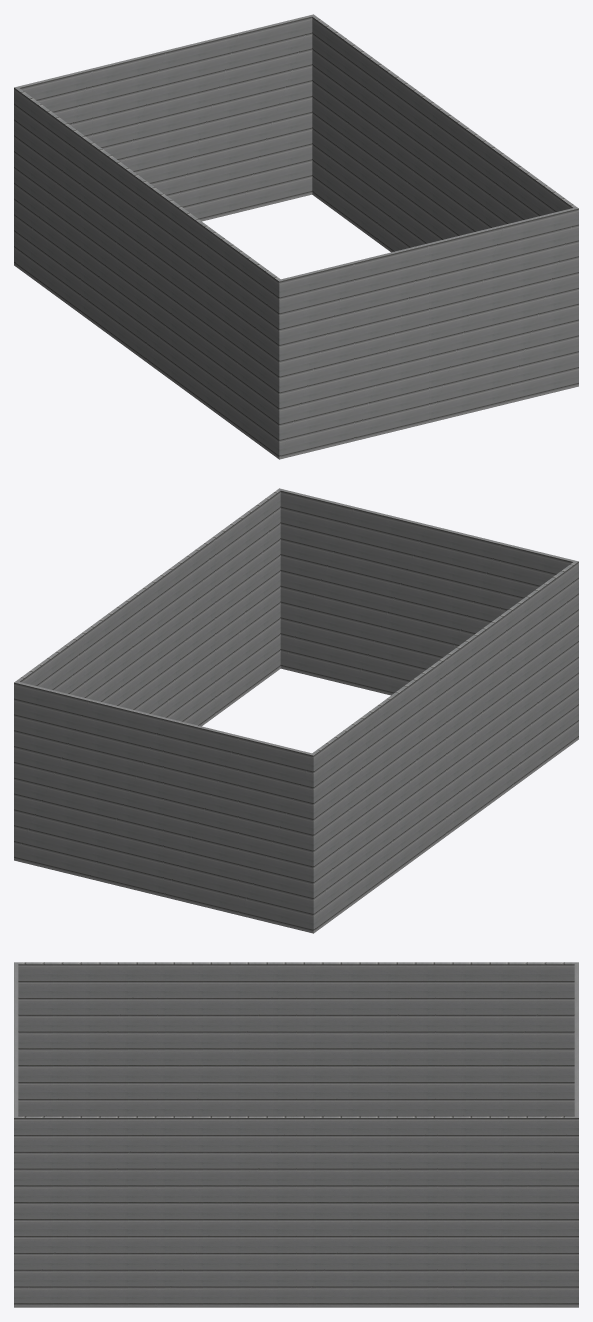
Rendered from exteriorFf.glb.
3 views of the same model, one above another, from view 1: azimuth 30°, elevation 25°; view 2: azimuth 150°, elevation 25°; view 3: azimuth 270°, elevation 25° (orthographic). The views are drawn at different scales.
Visible parts, largest first — view 1: exteriorwall; view 2: exteriorwall; view 3: exteriorwall.
Part boxes in pixels (x1,y1,x2,y2): exteriorwall: (14,14,578,459); exteriorwall: (14,488,578,933); exteriorwall: (14,962,578,1307).
Bounding box in the file's own units: 4.9 × 2.78 × 7.52.
1 material, 1 textured.
